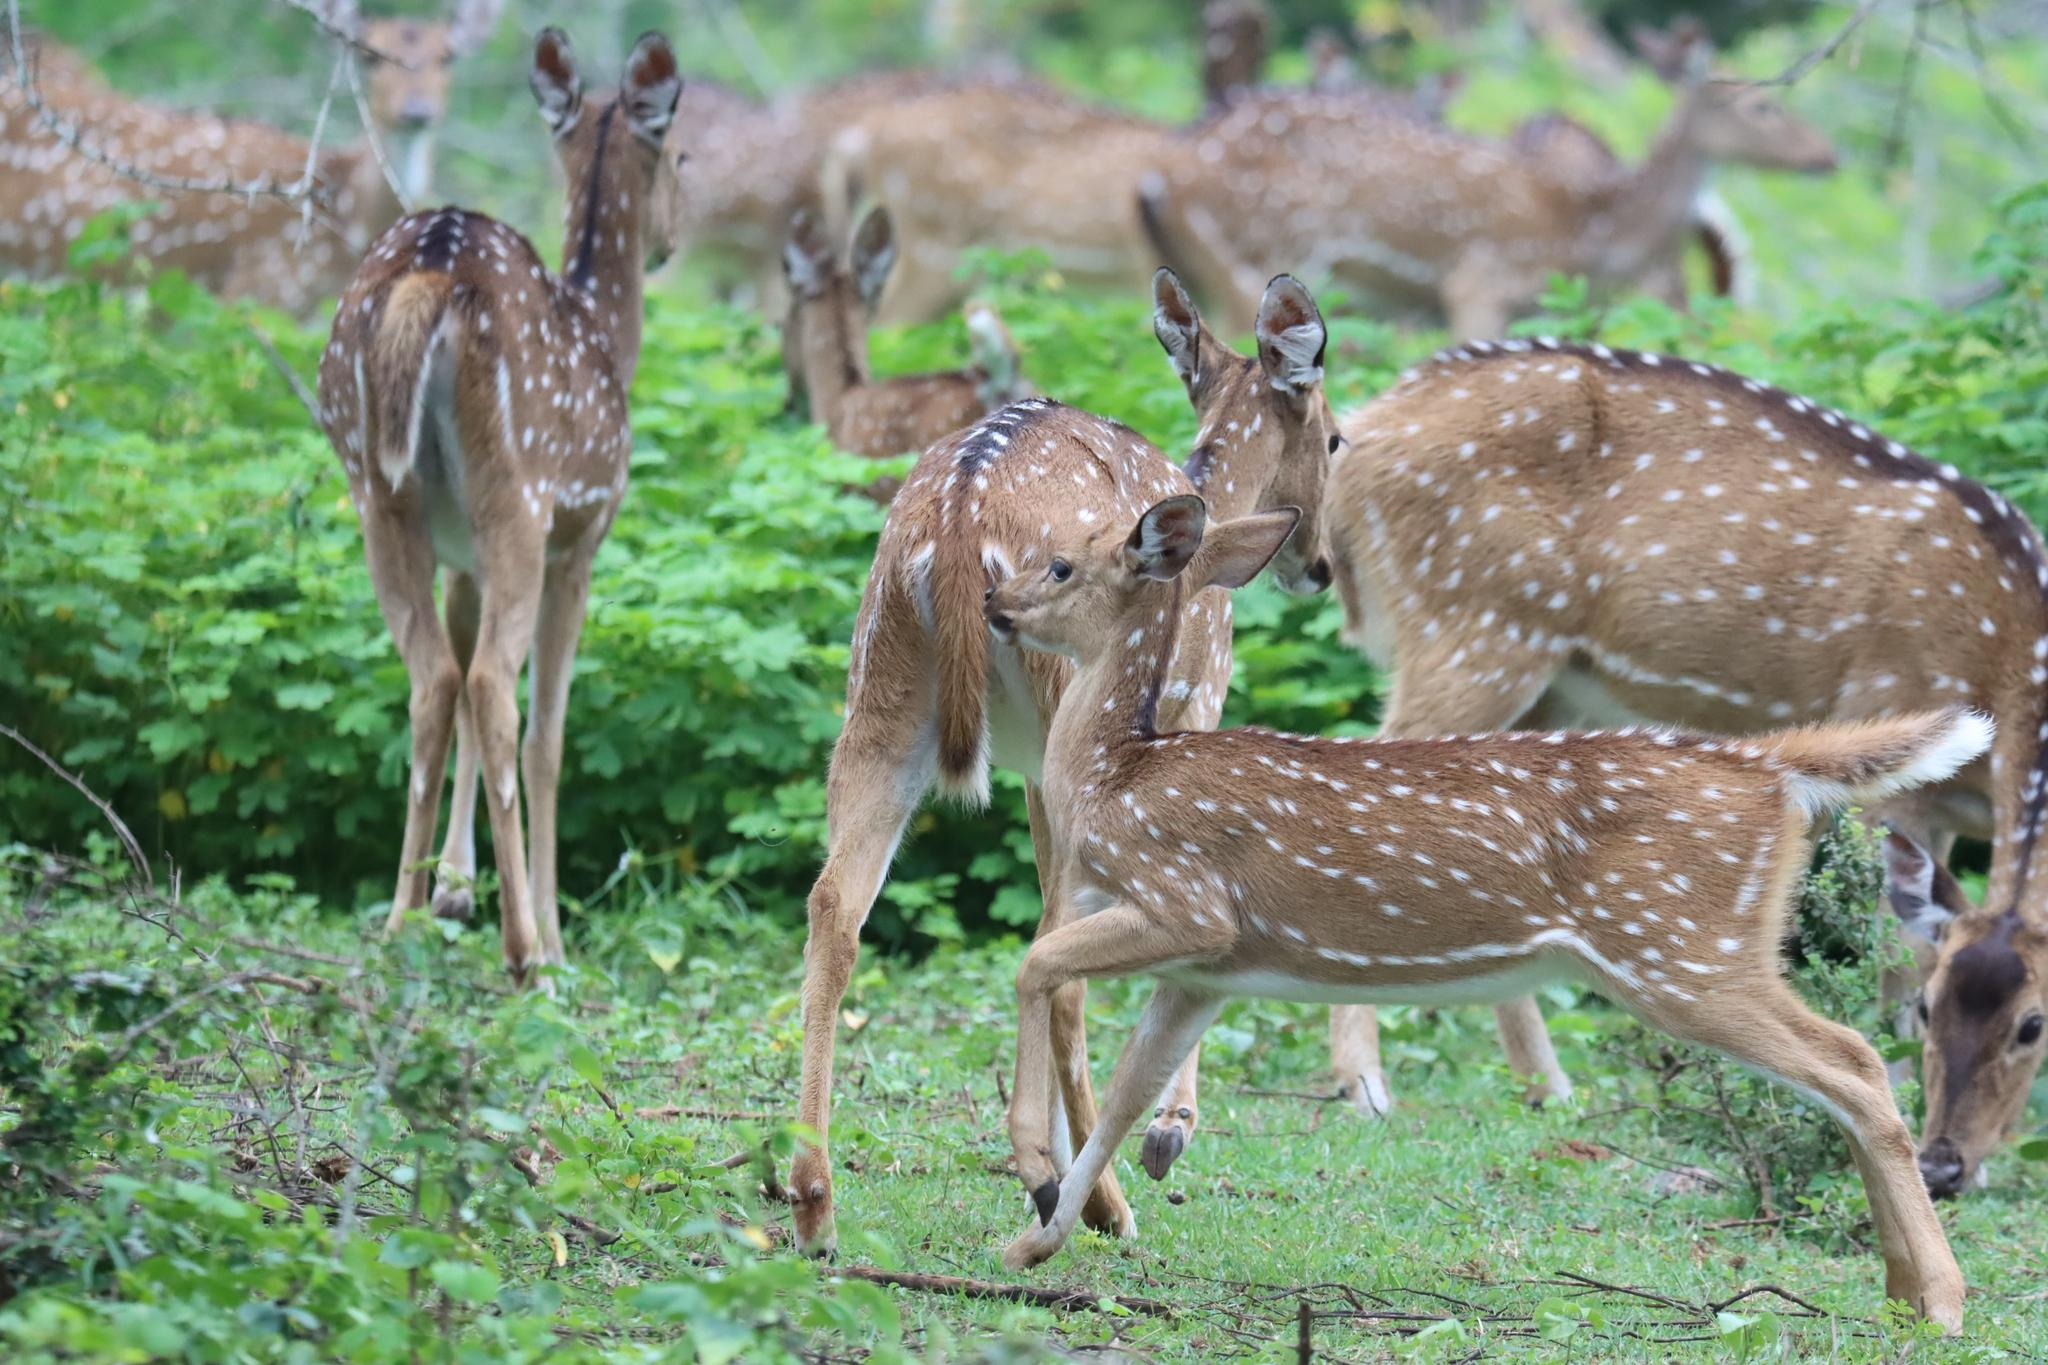Deer: (984, 494, 1992, 1330), (1323, 338, 2046, 1196), (778, 267, 1345, 1251), (318, 27, 682, 981)
